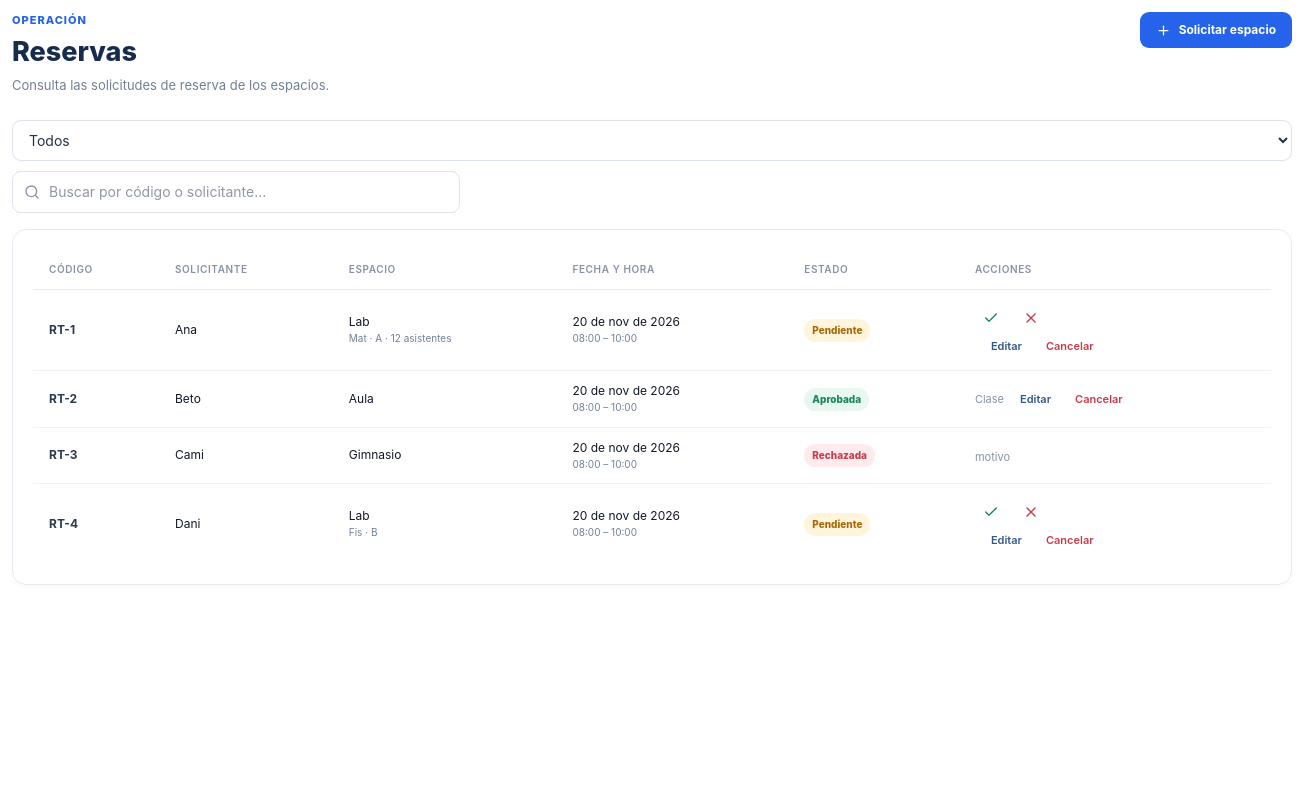
Test case: ReservationsPage · revisión › fallback del error de revisión
Expected: the text "RT-1" is shown, [33,289,159,371]
What coordinates should you click on to do the following:
click the button named "Aprobar reserva" in the row of "RT-1"
I would click on:
 (991, 318)
Its box is [975,302,1007,334].
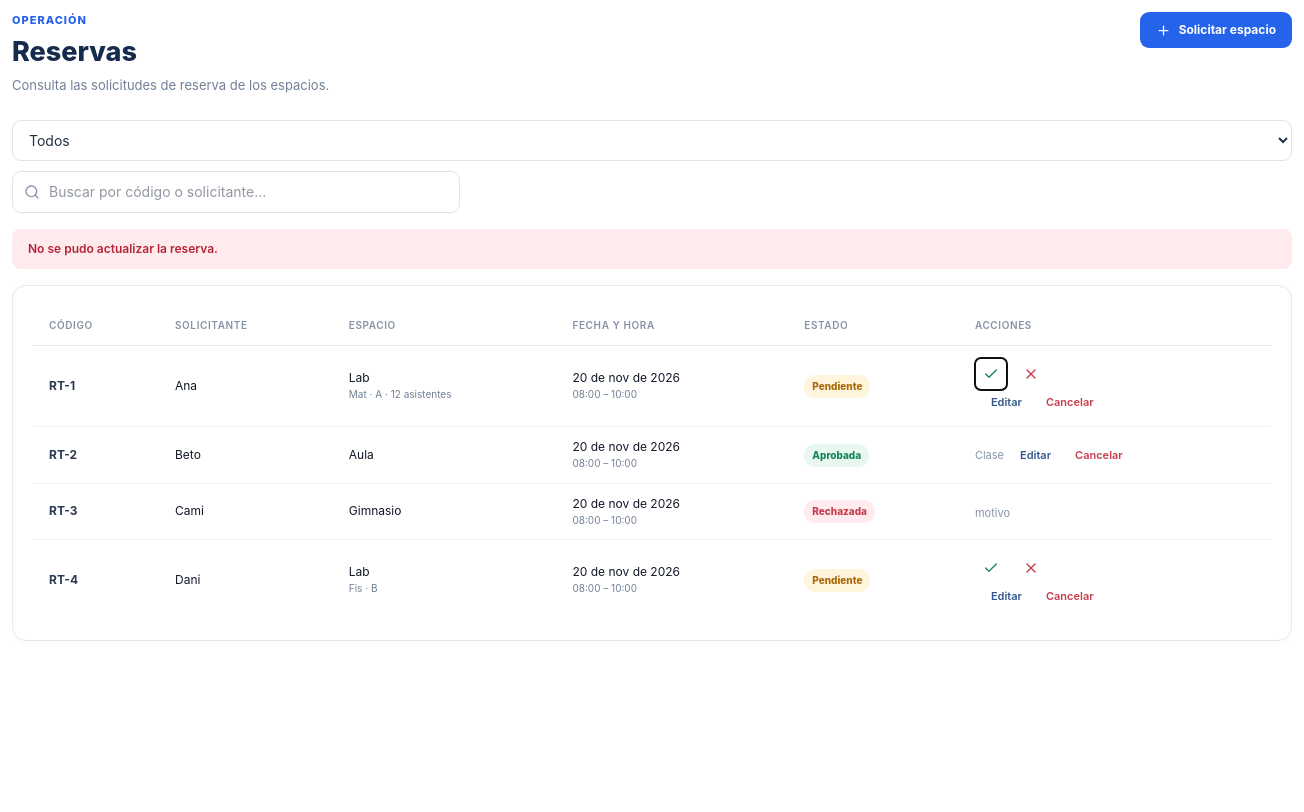
Expected: the message reads "No se pudo actualizar la reserva.", [28,241,218,256]
